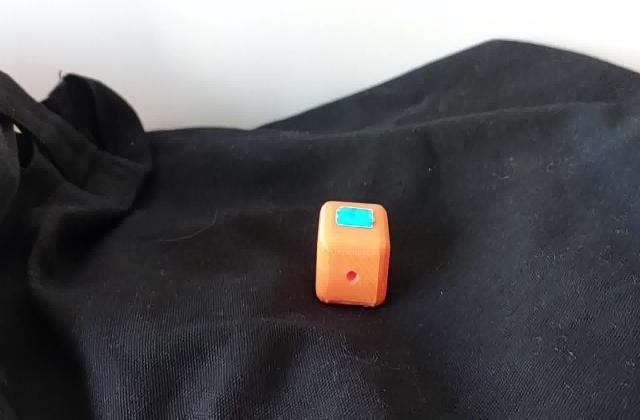blue: (342, 210, 373, 226)
cube: (312, 198, 392, 310)
